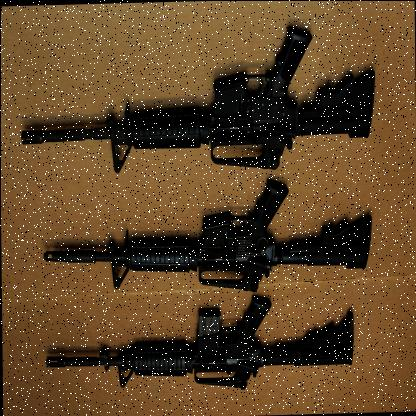rifle: (19, 16, 383, 169), (42, 166, 378, 293), (41, 286, 360, 390)
